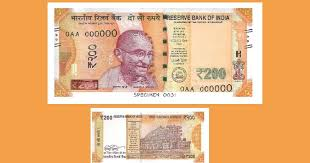twoHundred: (62, 21, 247, 86)
